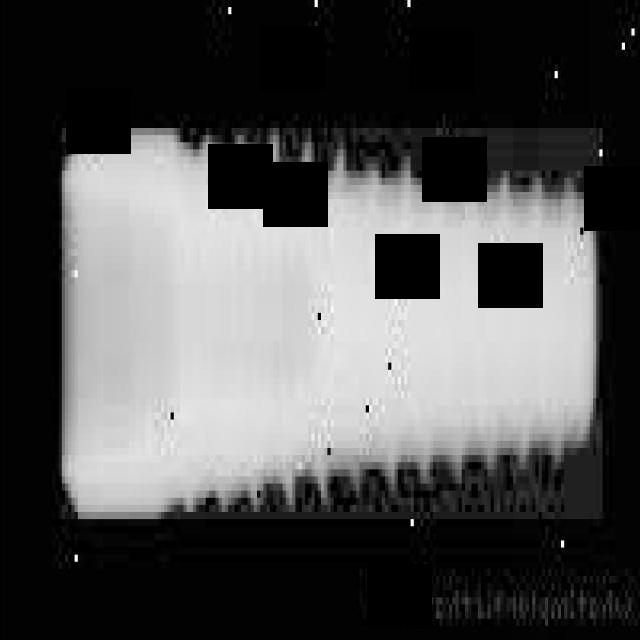Nobel Biocare Implant: (61, 128, 602, 519)
